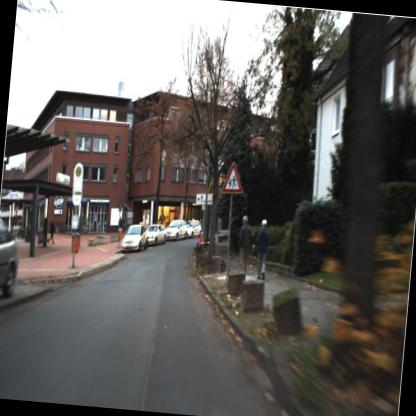danger: (218, 156, 247, 198)
